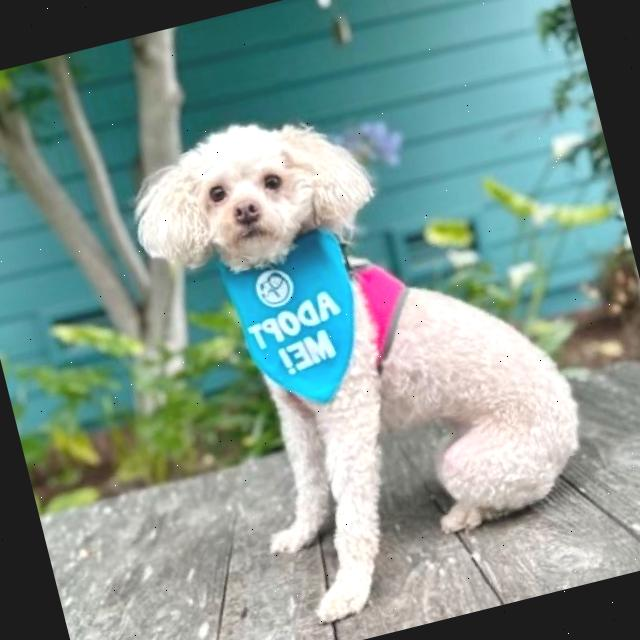Poodle_dog: (110, 85, 392, 311)
